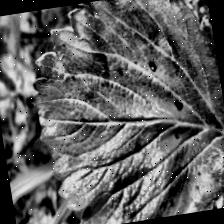Leaf Spot: (15, 0, 224, 224)
